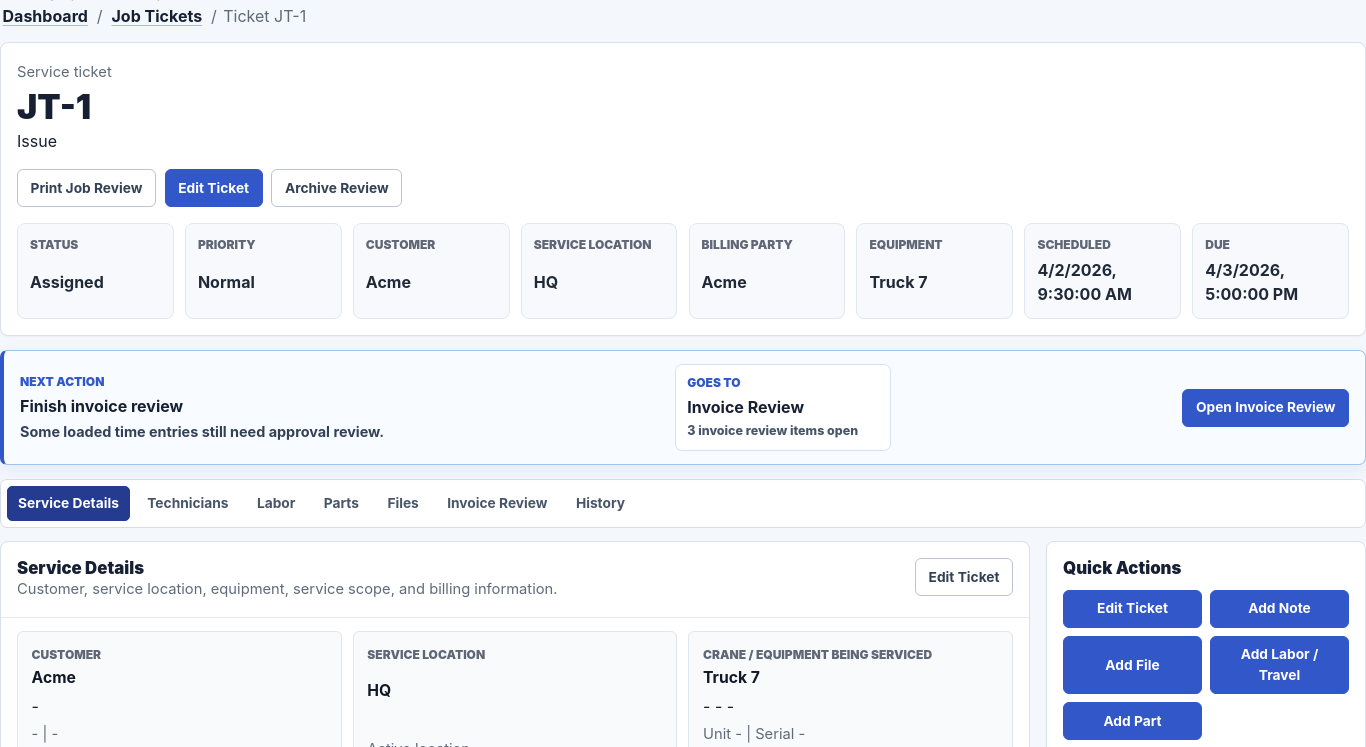
Test case: JobTicketDetailPage › lets Manager/Admin add or request a part from the ticket detail without pricing fields
The width and height of the screenshot is (1366, 747).
Expected: the heading "JT-1" is shown, [17, 86, 91, 127]
Click the button "Add Part": {"x": 1132, "y": 721} [1063, 702, 1202, 740]
(page scrolled)
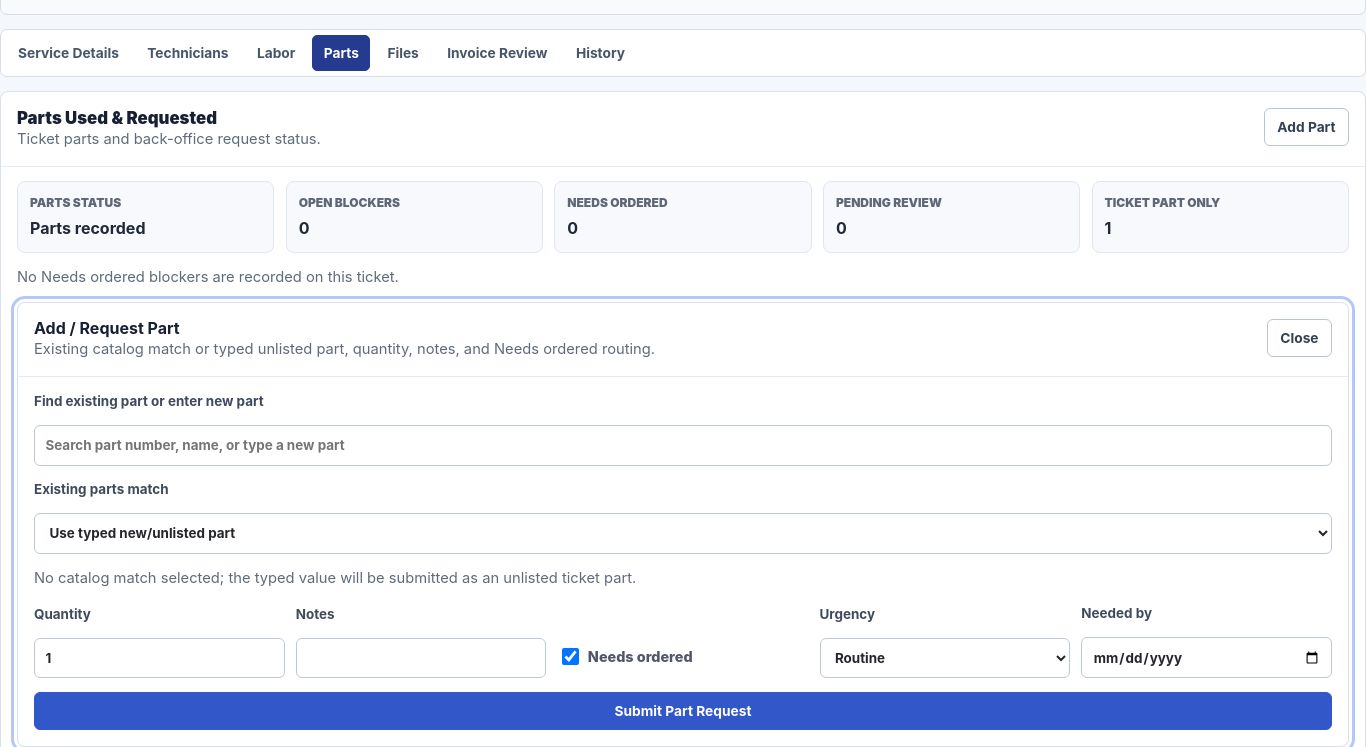
Result: the form named "add or request ticket part" is shown at [34, 391, 1332, 730]
In the field labelled "Find existing part or enter new part": {"x": 683, "y": 445} [34, 425, 1332, 466], type "pendant"
Select "P-200 - Pendant harness" in the dropdown labelled "Existing parts match": {"x": 683, "y": 533} [34, 513, 1332, 554]
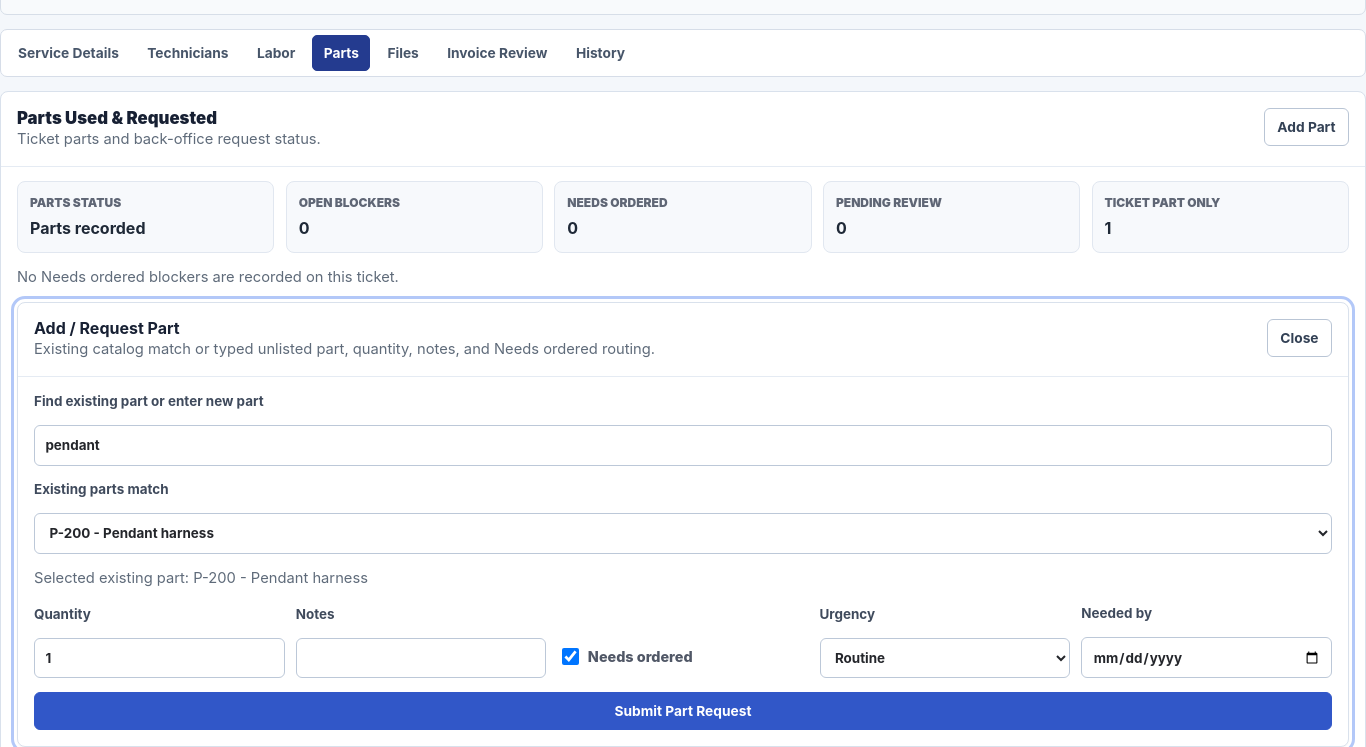
Result: the text "Selected existing part: P-200 - Pendant harness" is shown at [34, 569, 368, 587]
Replace the text in the number field labelled "Quantity" with "2": {"x": 159, "y": 658} [34, 638, 285, 678]
In the field labelled "Notes": {"x": 421, "y": 658} [296, 638, 546, 678], type "Needed before return visit"
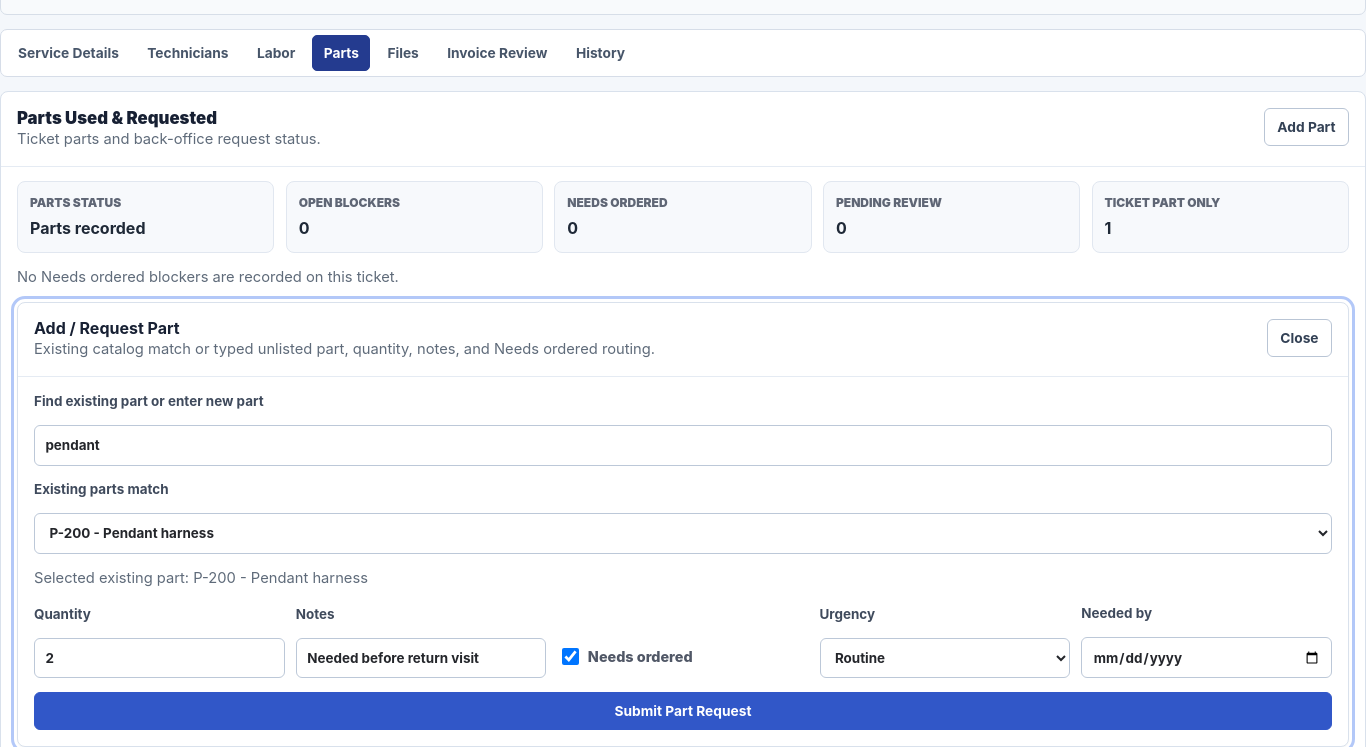
Select "Urgent" in the dropdown labelled "Urgency": {"x": 945, "y": 658} [820, 638, 1070, 678]
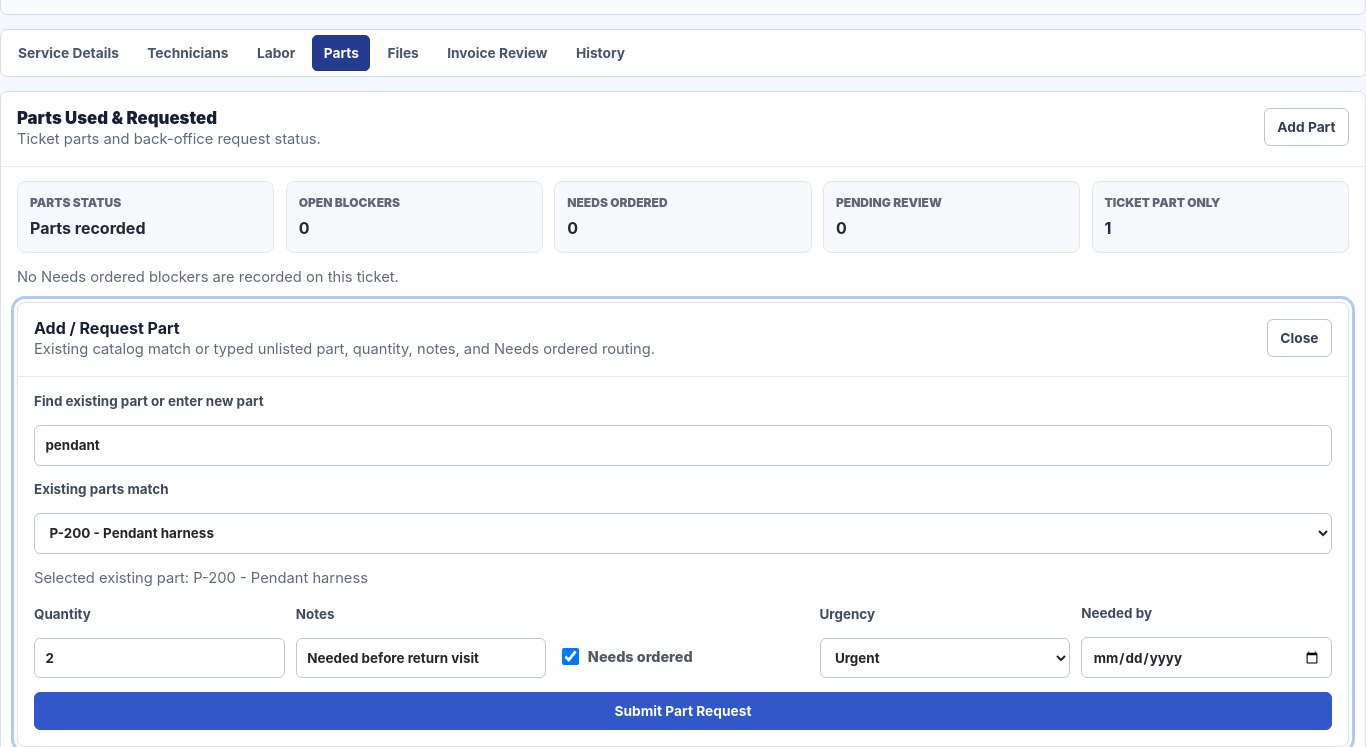
In the date field labelled "Needed by": {"x": 1207, "y": 658} [1081, 637, 1332, 678], type "2026-04-05"
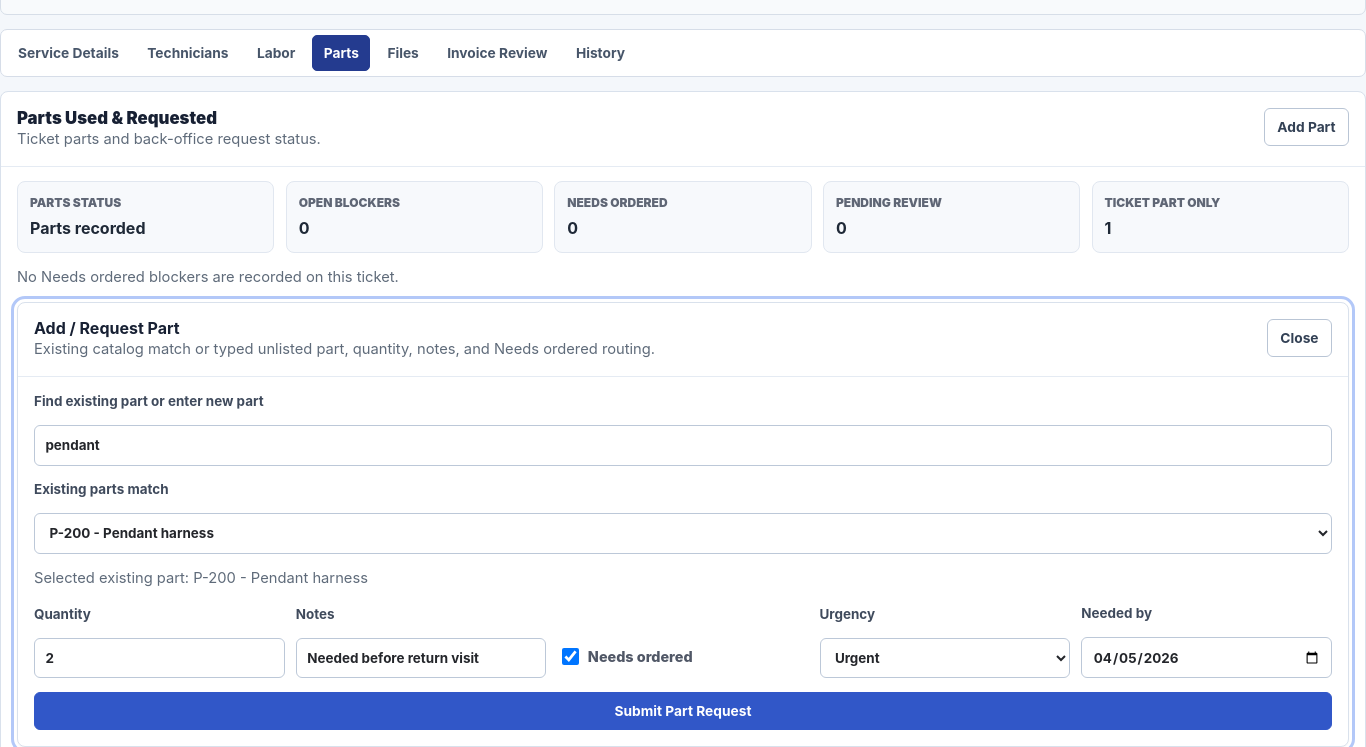
Click the button "Submit Part Request": {"x": 683, "y": 711} [34, 692, 1332, 730]
(page scrolled)
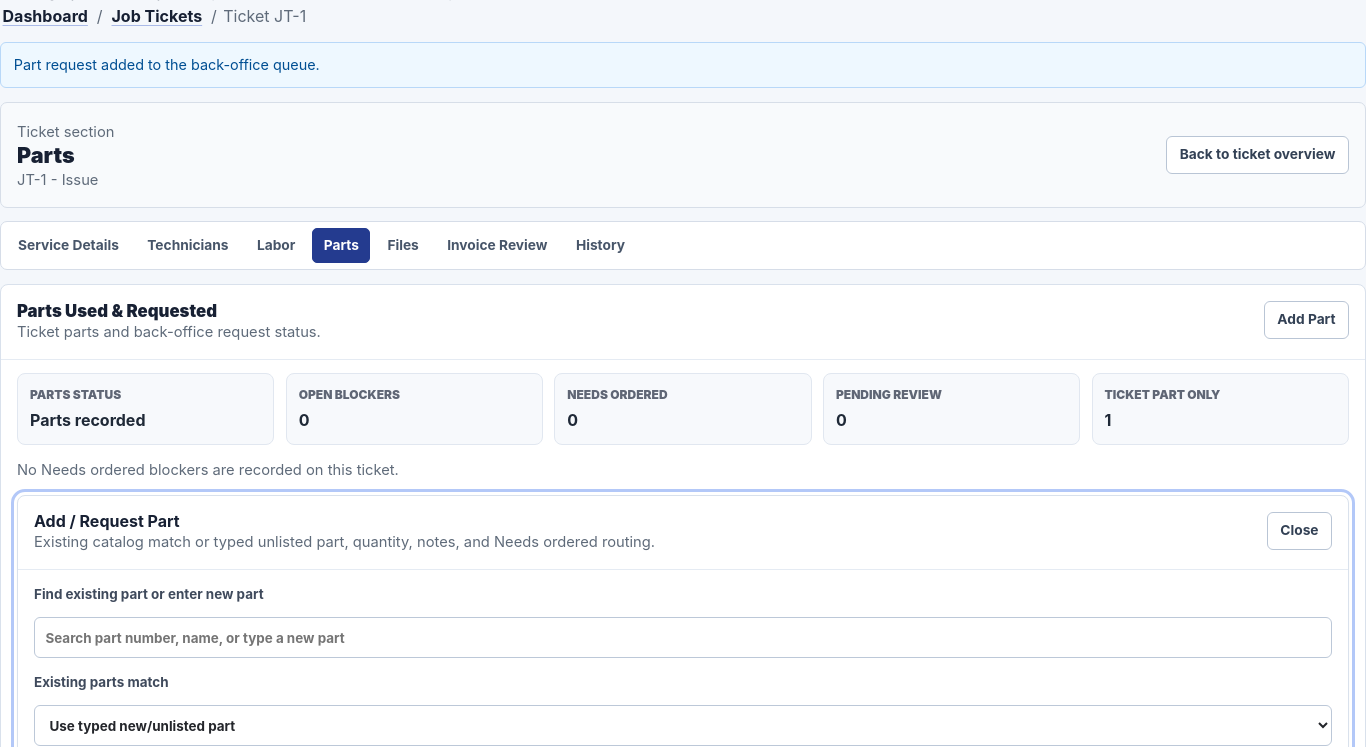
Result: the text "Part request added to the back-office queue." is shown at [0, 42, 1365, 88]
